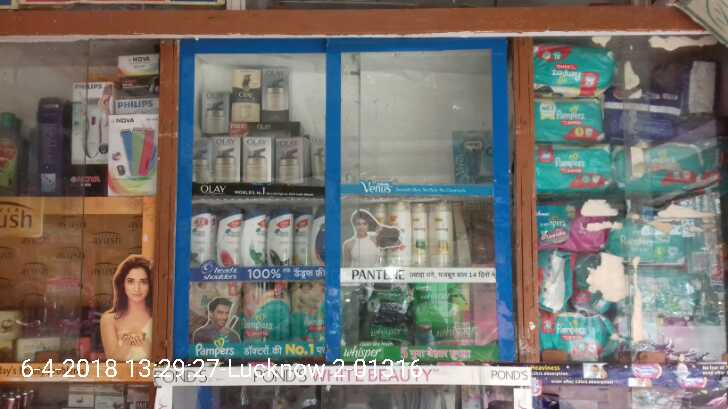venus: (453, 131, 494, 184)
